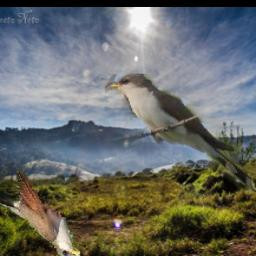Cuckoo: (106, 75, 256, 195), (0, 166, 81, 256)
